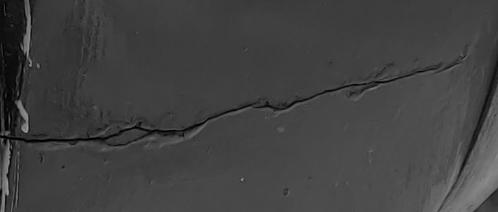crack: (1, 1, 498, 212)
